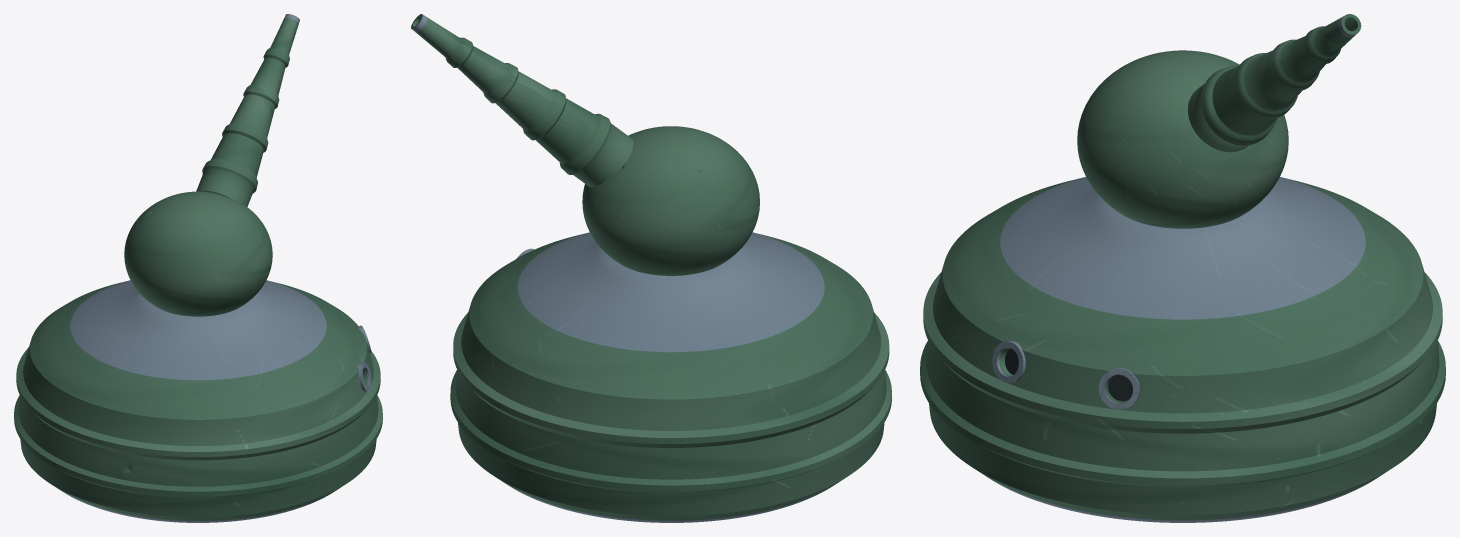
The picture shows the model from 3 angles, left to right: view 1: azimuth 30°, elevation 25°; view 2: azimuth 150°, elevation 25°; view 3: azimuth 270°, elevation 25°; orthographic projection. The views are drawn at different scales.
Visible parts, largest first — view 1: Auto-deterrent fixed two-hoop base and pale shoulder, Auto-deterrent small rounded rotating head, Auto-deterrent single tapered emitter with blind bore; view 2: Auto-deterrent fixed two-hoop base and pale shoulder, Auto-deterrent small rounded rotating head, Auto-deterrent single tapered emitter with blind bore; view 3: Auto-deterrent fixed two-hoop base and pale shoulder, Auto-deterrent small rounded rotating head, Auto-deterrent single tapered emitter with blind bore, Auto-deterrent fixed point rim 1, Auto-deterrent fixed point rim 0.
Boxes of the visible parts, x1,y1,x2,y2 form: Auto-deterrent fixed two-hoop base and pale shoulder: [14, 280, 382, 522]; Auto-deterrent small rounded rotating head: [124, 191, 272, 316]; Auto-deterrent single tapered emitter with blind bore: [196, 14, 299, 206]; Auto-deterrent fixed two-hoop base and pale shoulder: [450, 232, 891, 522]; Auto-deterrent small rounded rotating head: [582, 126, 759, 275]; Auto-deterrent single tapered emitter with blind bore: [411, 14, 633, 187]; Auto-deterrent fixed two-hoop base and pale shoulder: [920, 177, 1445, 522]; Auto-deterrent small rounded rotating head: [1077, 50, 1288, 228]; Auto-deterrent single tapered emitter with blind bore: [1187, 14, 1361, 152]; Auto-deterrent fixed point rim 1: [1098, 367, 1139, 409]; Auto-deterrent fixed point rim 0: [992, 341, 1025, 382].
Size of the model in its own units: 1.64 by 1.81 by 1.64.
3 materials, 2 textured.
